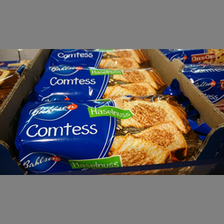cake: (16, 99, 213, 173), (30, 64, 171, 100), (48, 51, 155, 67)
